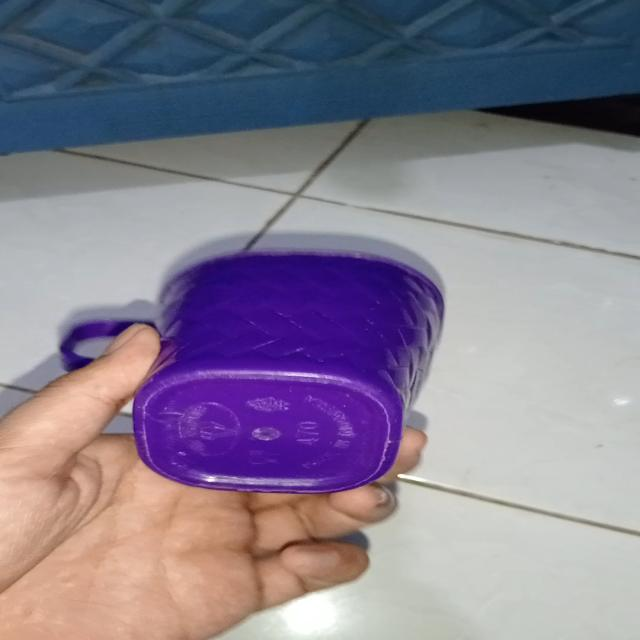gelas bekas: (39, 230, 501, 515)
